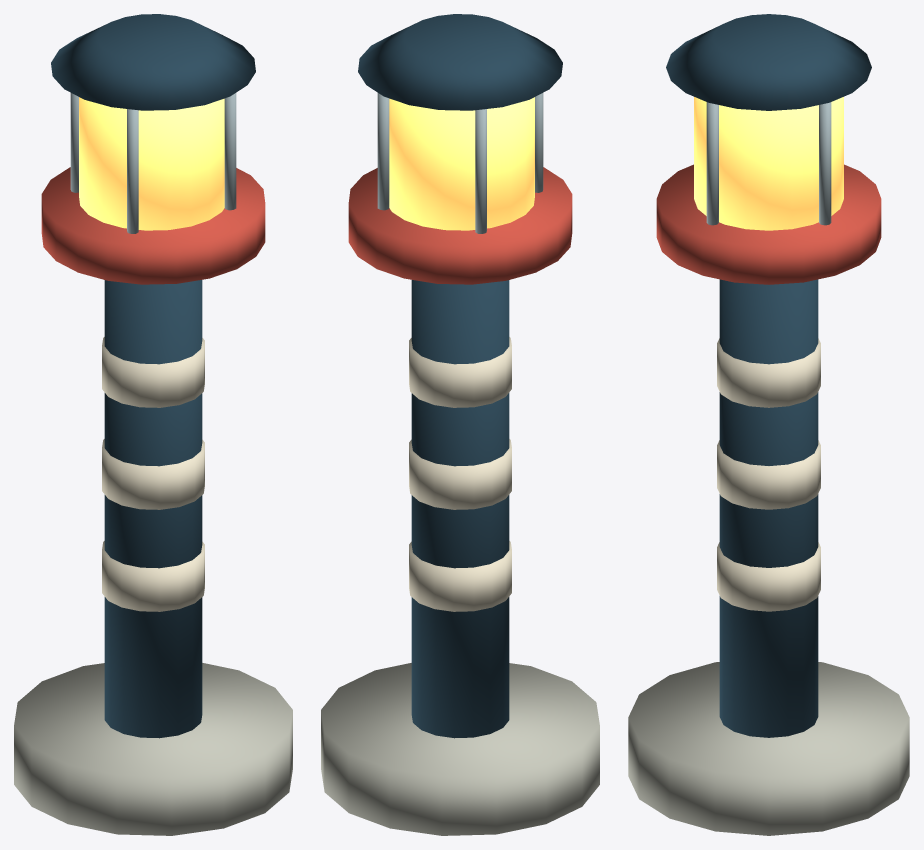
Rendered from beacon.glb.
3 renders of one model, left to right at view 1: azimuth 30°, elevation 25°; view 2: azimuth 150°, elevation 25°; view 3: azimuth 270°, elevation 25°, orthographic.
Parts seen in each view (by area): view 1: beacon_Navy, beacon_Concrete, beacon_Glow, beacon_Paint, beacon_Ivory, beacon_Aluminium; view 2: beacon_Navy, beacon_Concrete, beacon_Glow, beacon_Paint, beacon_Ivory, beacon_Aluminium; view 3: beacon_Navy, beacon_Concrete, beacon_Paint, beacon_Glow, beacon_Ivory, beacon_Aluminium.
Part boxes in pixels (x1,y1,x2,y2): beacon_Navy: [51, 14, 255, 738]; beacon_Concrete: [14, 663, 292, 835]; beacon_Glow: [79, 97, 224, 230]; beacon_Paint: [41, 167, 265, 284]; beacon_Ivory: [102, 337, 204, 611]; beacon_Aluminium: [70, 93, 236, 233]; beacon_Navy: [358, 14, 562, 738]; beacon_Concrete: [321, 663, 599, 835]; beacon_Glow: [389, 97, 534, 230]; beacon_Paint: [348, 167, 572, 284]; beacon_Ivory: [409, 337, 511, 611]; beacon_Aluminium: [377, 93, 543, 233]; beacon_Navy: [666, 14, 871, 737]; beacon_Concrete: [628, 662, 909, 835]; beacon_Paint: [656, 164, 881, 284]; beacon_Glow: [694, 97, 843, 230]; beacon_Ivory: [717, 338, 820, 611]; beacon_Aluminium: [706, 102, 831, 225].
Size of the model in its own units: 0.6 by 1.74 by 0.6.
